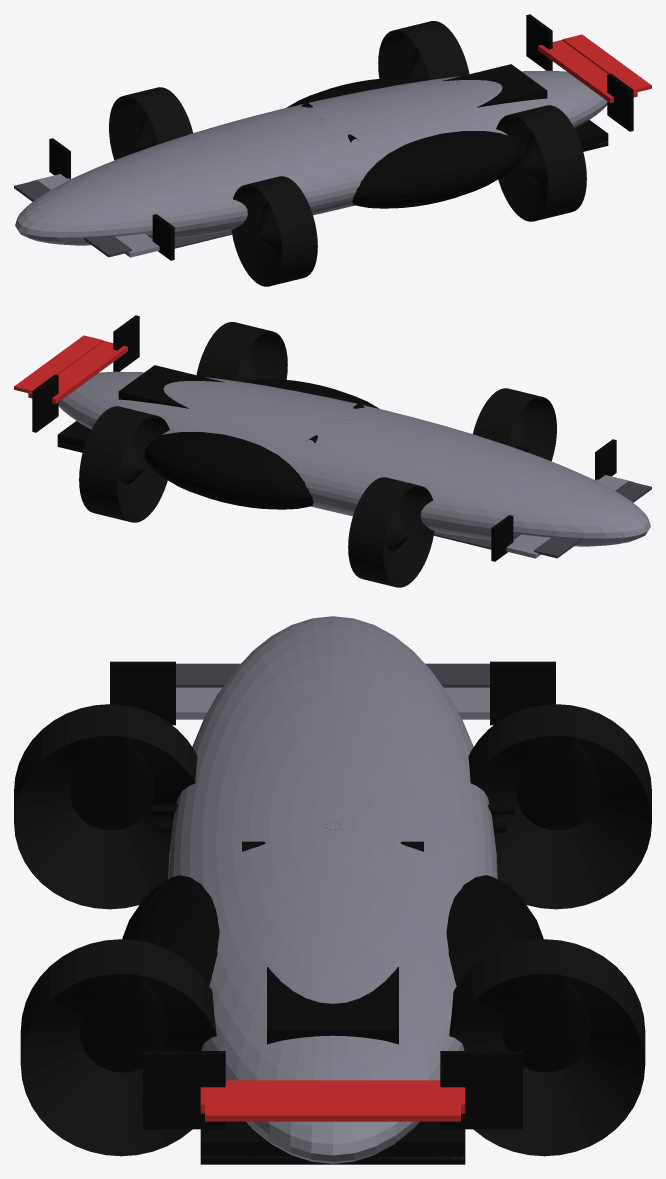
Rendered from f1_car_new.obj.
3 renders of one model, top to bottom at view 1: azimuth 30°, elevation 25°; view 2: azimuth 150°, elevation 25°; view 3: azimuth 270°, elevation 25°, orthographic. The views are drawn at different scales.
Parts seen in each view (by area): view 1: main_body, tires, engine; view 2: main_body, tires, engine; view 3: main_body, tires, engine.
Part boxes in pixels (<box>): main_body: <box>14,14,651,260</box>; tires: <box>109,21,586,286</box>; engine: <box>441,64,547,107</box>; main_body: <box>14,315,651,561</box>; tires: <box>79,322,556,587</box>; engine: <box>118,365,224,408</box>; main_body: <box>110,616,555,1164</box>; tires: <box>14,704,651,1156</box>; engine: <box>267,967,398,1044</box>.
Size of the model in its own units: 7.67 by 1.22 by 3.86.
